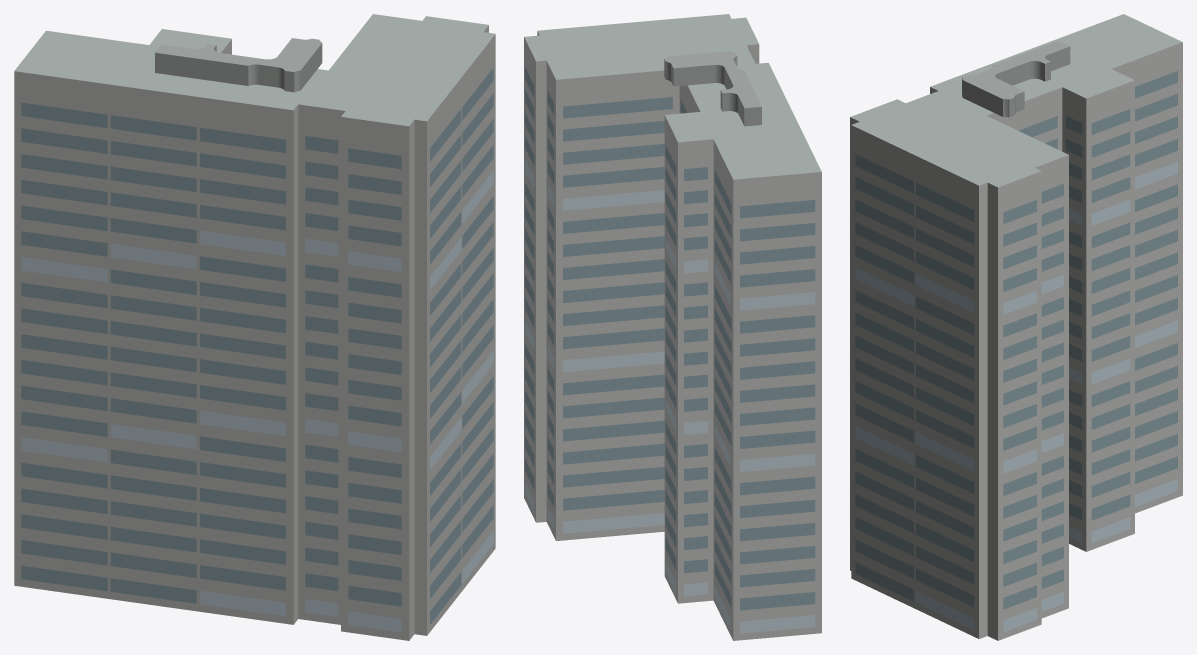
The model's file is fallback-gaepo-xi-presidence-414.glb.
3 renders of one model, left to right at view 1: azimuth 30°, elevation 25°; view 2: azimuth 150°, elevation 25°; view 3: azimuth 270°, elevation 25°, orthographic. The views are drawn at different scales.
Parts seen in each view (by area): view 1: fallback-gaepo-xi-presidence-414; view 2: fallback-gaepo-xi-presidence-414; view 3: fallback-gaepo-xi-presidence-414.
Boxes of the visible parts, x1=… form: fallback-gaepo-xi-presidence-414: x1=14, y1=14, x2=495, y2=640; fallback-gaepo-xi-presidence-414: x1=524, y1=14, x2=821, y2=640; fallback-gaepo-xi-presidence-414: x1=850, y1=14, x2=1182, y2=640.
Bounding box in the file's own units: 50.07 × 63.4 × 40.59.
